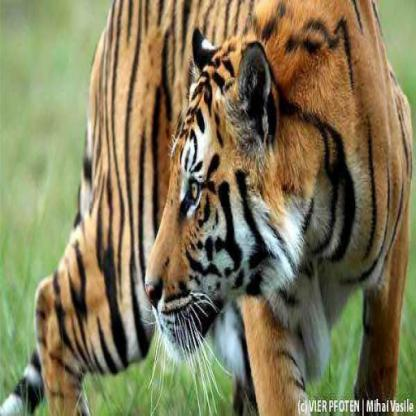Tiger: (32, 0, 415, 403)
